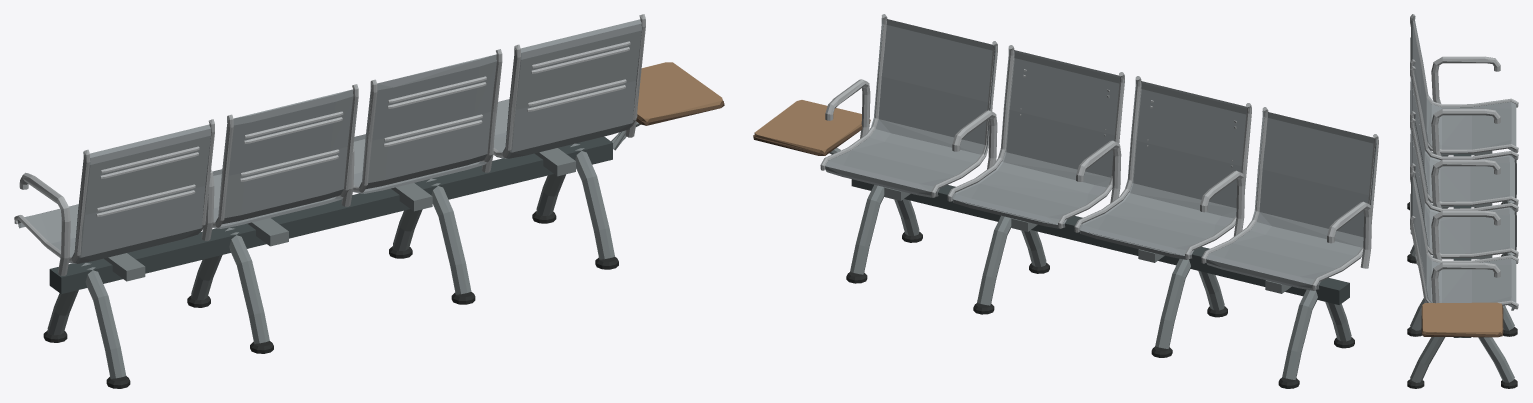
The model's file is waiting-benches.glb.
3 views of the same model, side by side, from view 1: azimuth 30°, elevation 25°; view 2: azimuth 150°, elevation 25°; view 3: azimuth 270°, elevation 25° (orthographic). The views are drawn at different scales.
Visible parts, largest first — view 1: WindowFour, TerminalTwo, TerminalFour; view 2: WindowFour, TerminalFour, TerminalTwo; view 3: WindowFour, TerminalFour, TerminalTwo.
Boxes of the visible parts, x1,y1,x2,y2 form: WindowFour: (14,14,724,388); TerminalTwo: (187,49,501,353); TerminalFour: (14,14,645,388); WindowFour: (753,15,1378,388); TerminalFour: (820,14,1377,388); TerminalTwo: (947,45,1251,357); WindowFour: (1409,15,1518,388); TerminalFour: (1407,14,1518,388); TerminalTwo: (1407,66,1518,336).
Bounding box in the file's own units: 2.6 × 0.9259 × 0.5144.
